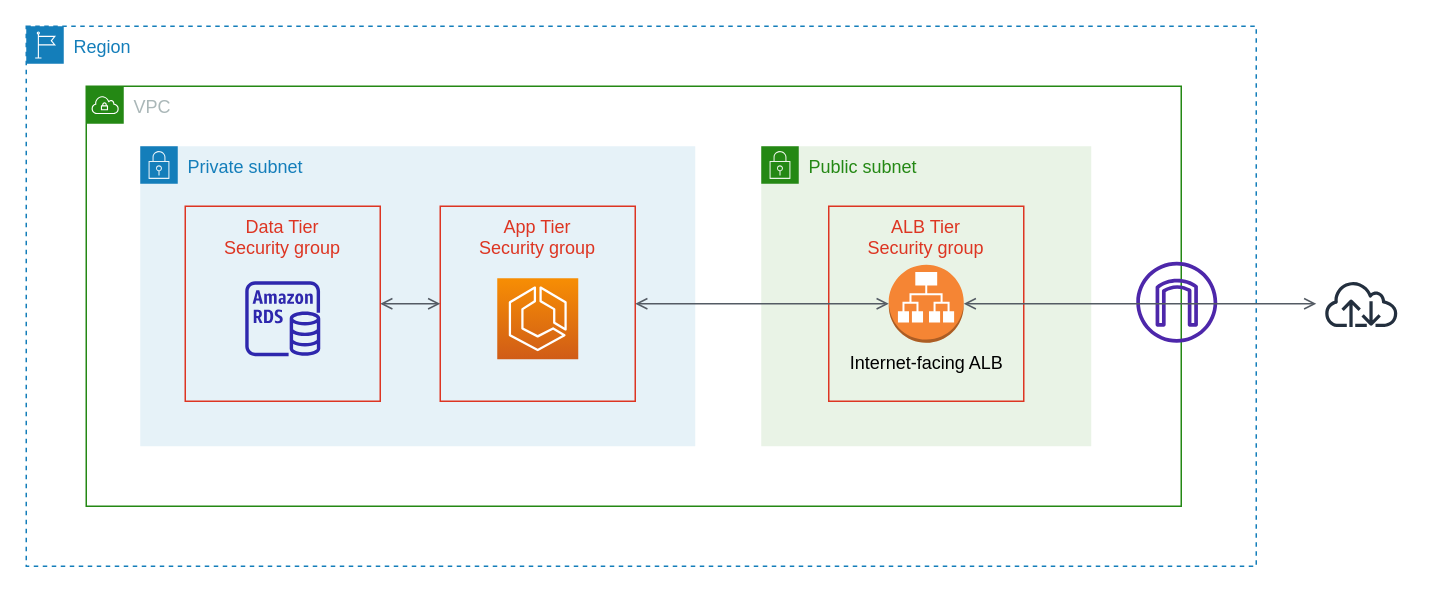
Some shapes in this 1433 by 593 pixel diagram are drawn without their labels. Here are the shapes that lost their labels. From the top down, the centre of each, then its label:
At (1176,301): "Internet gateway".
At (1360,303): "Internet".
